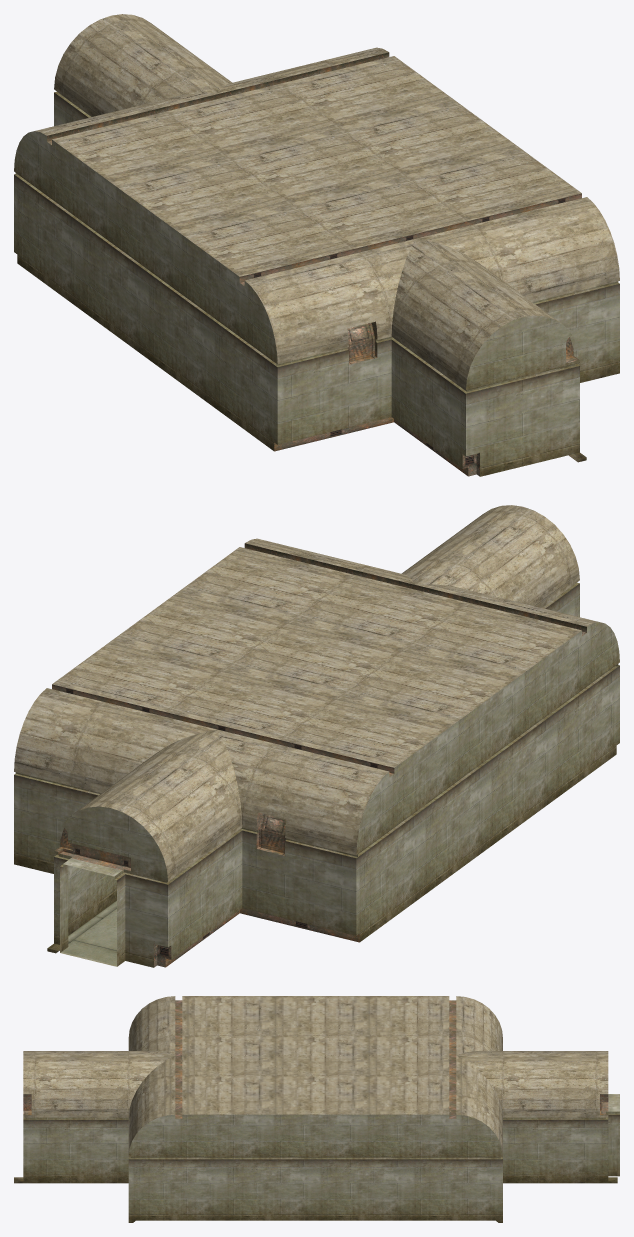
Rendered from poi_all_bunker_allum_mine_r29_smallroom_70_mesh_r29.fbx.
3 views of the same model, one above another, from view 1: azimuth 30°, elevation 25°; view 2: azimuth 150°, elevation 25°; view 3: azimuth 270°, elevation 25° (orthographic). The views are drawn at different scales.
Parts seen in each view (by area): view 1: mesh_node; view 2: mesh_node; view 3: mesh_node.
Boxes of the visible parts, box(x1,y1,x2,y2) form: mesh_node: box(14, 14, 619, 476); mesh_node: box(14, 505, 619, 967); mesh_node: box(14, 996, 619, 1222).
Size of the model in its own units: 12 by 5.1 by 25.9.
